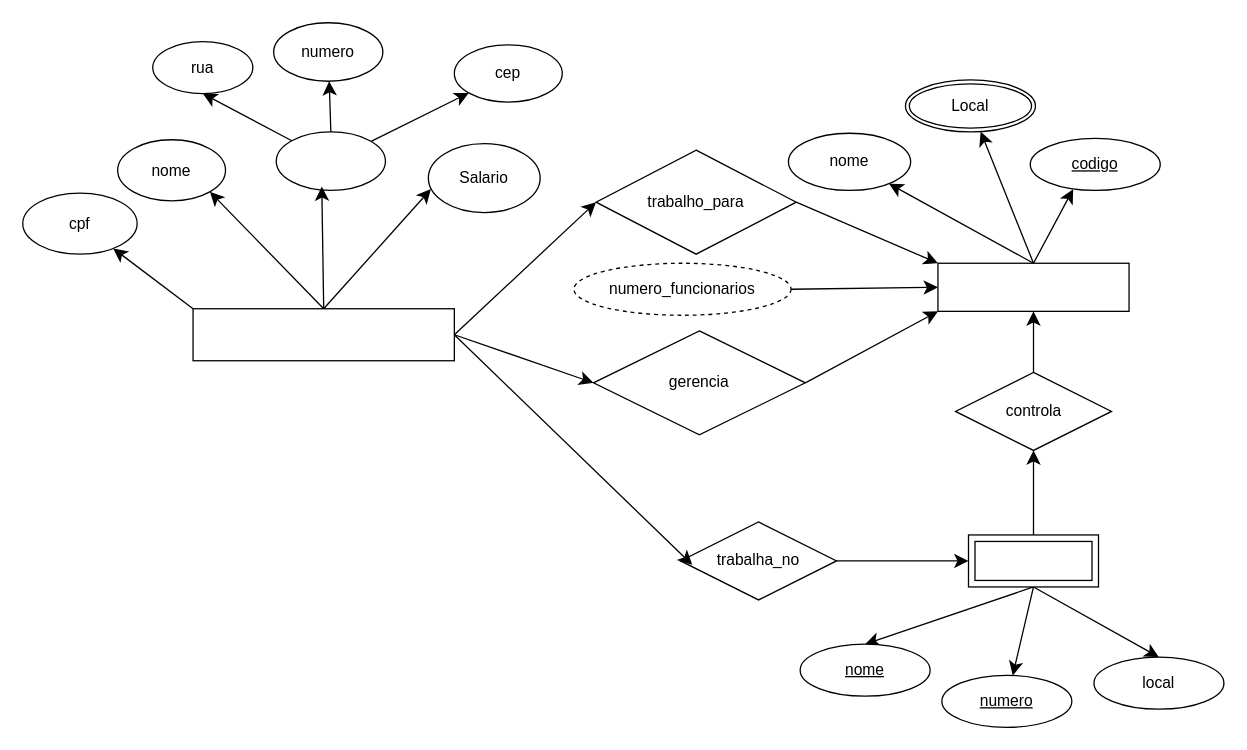
The diagram is 1247 pixels wide and 750 high, and some of its shapes have lost their labels. Here are the shapes that lost their labels. From the top down, the box of each, then its label:
(275, 131, 385, 190): Endereço
(937, 262, 1129, 311): departamento
(192, 307, 454, 361): Funcionario
(967, 534, 1098, 587): projeto
